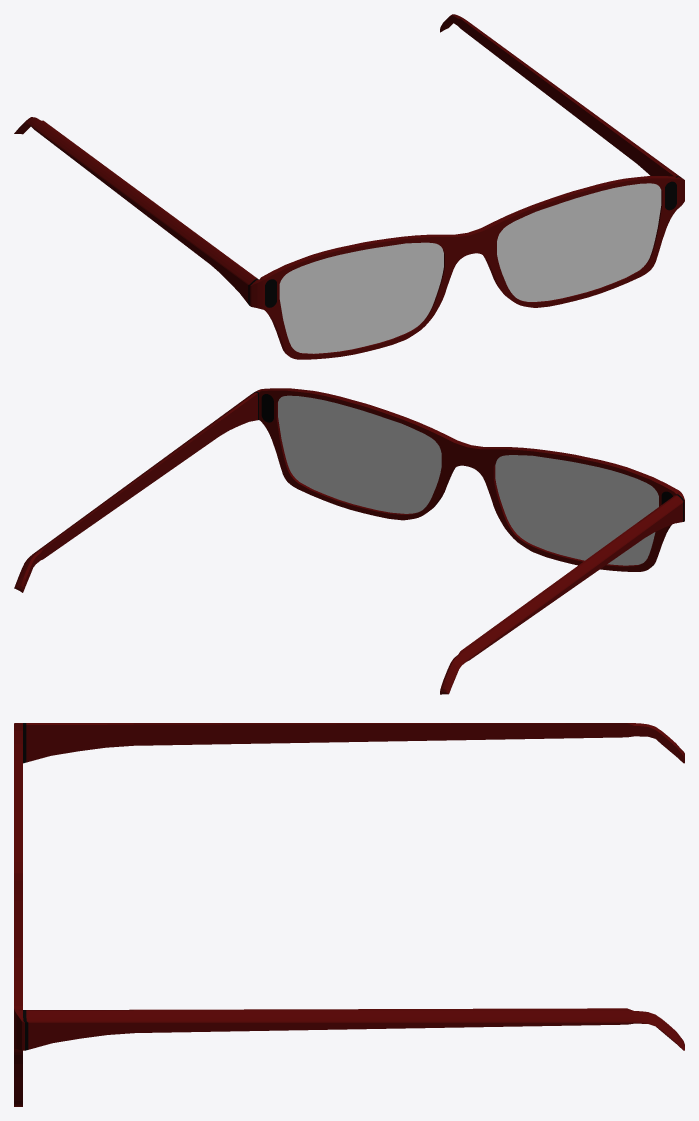
File: Sun Glasses.obj
3 renders of one model, top to bottom at view 1: azimuth 30°, elevation 25°; view 2: azimuth 150°, elevation 25°; view 3: azimuth 270°, elevation 25°, orthographic. The views are drawn at different scales.
Visible parts, largest first — view 1: cerceve.001_Plane.002, cerceve_Plane, siyah_parca_Plane.001; view 2: cerceve.001_Plane.002, cerceve_Plane; view 3: cerceve_Plane.
Boxes of the visible parts, box(x1,y1,x2,y2) form: cerceve.001_Plane.002: box(279, 183, 661, 353); cerceve_Plane: box(14, 14, 684, 359); siyah_parca_Plane.001: box(265, 181, 676, 307); cerceve.001_Plane.002: box(278, 395, 658, 565); cerceve_Plane: box(14, 388, 684, 694); cerceve_Plane: box(14, 723, 684, 1106).
Size of the model in its own units: 4.19 by 0.9928 by 4.
